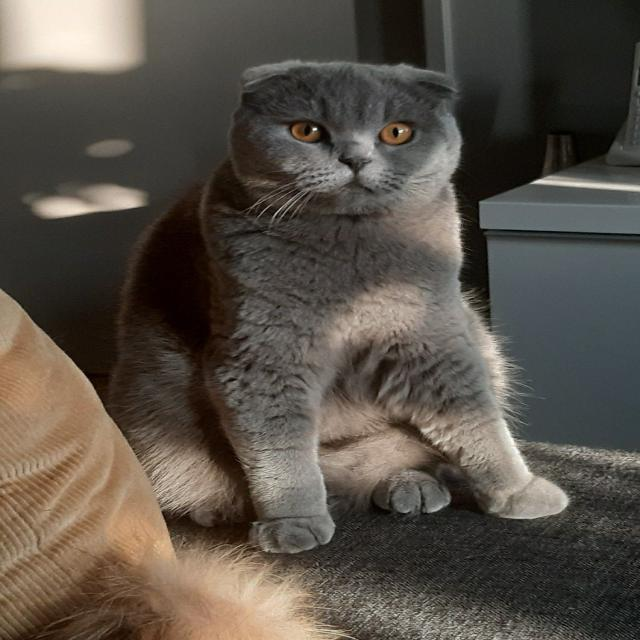british shorthair: (0, 49, 640, 582)
